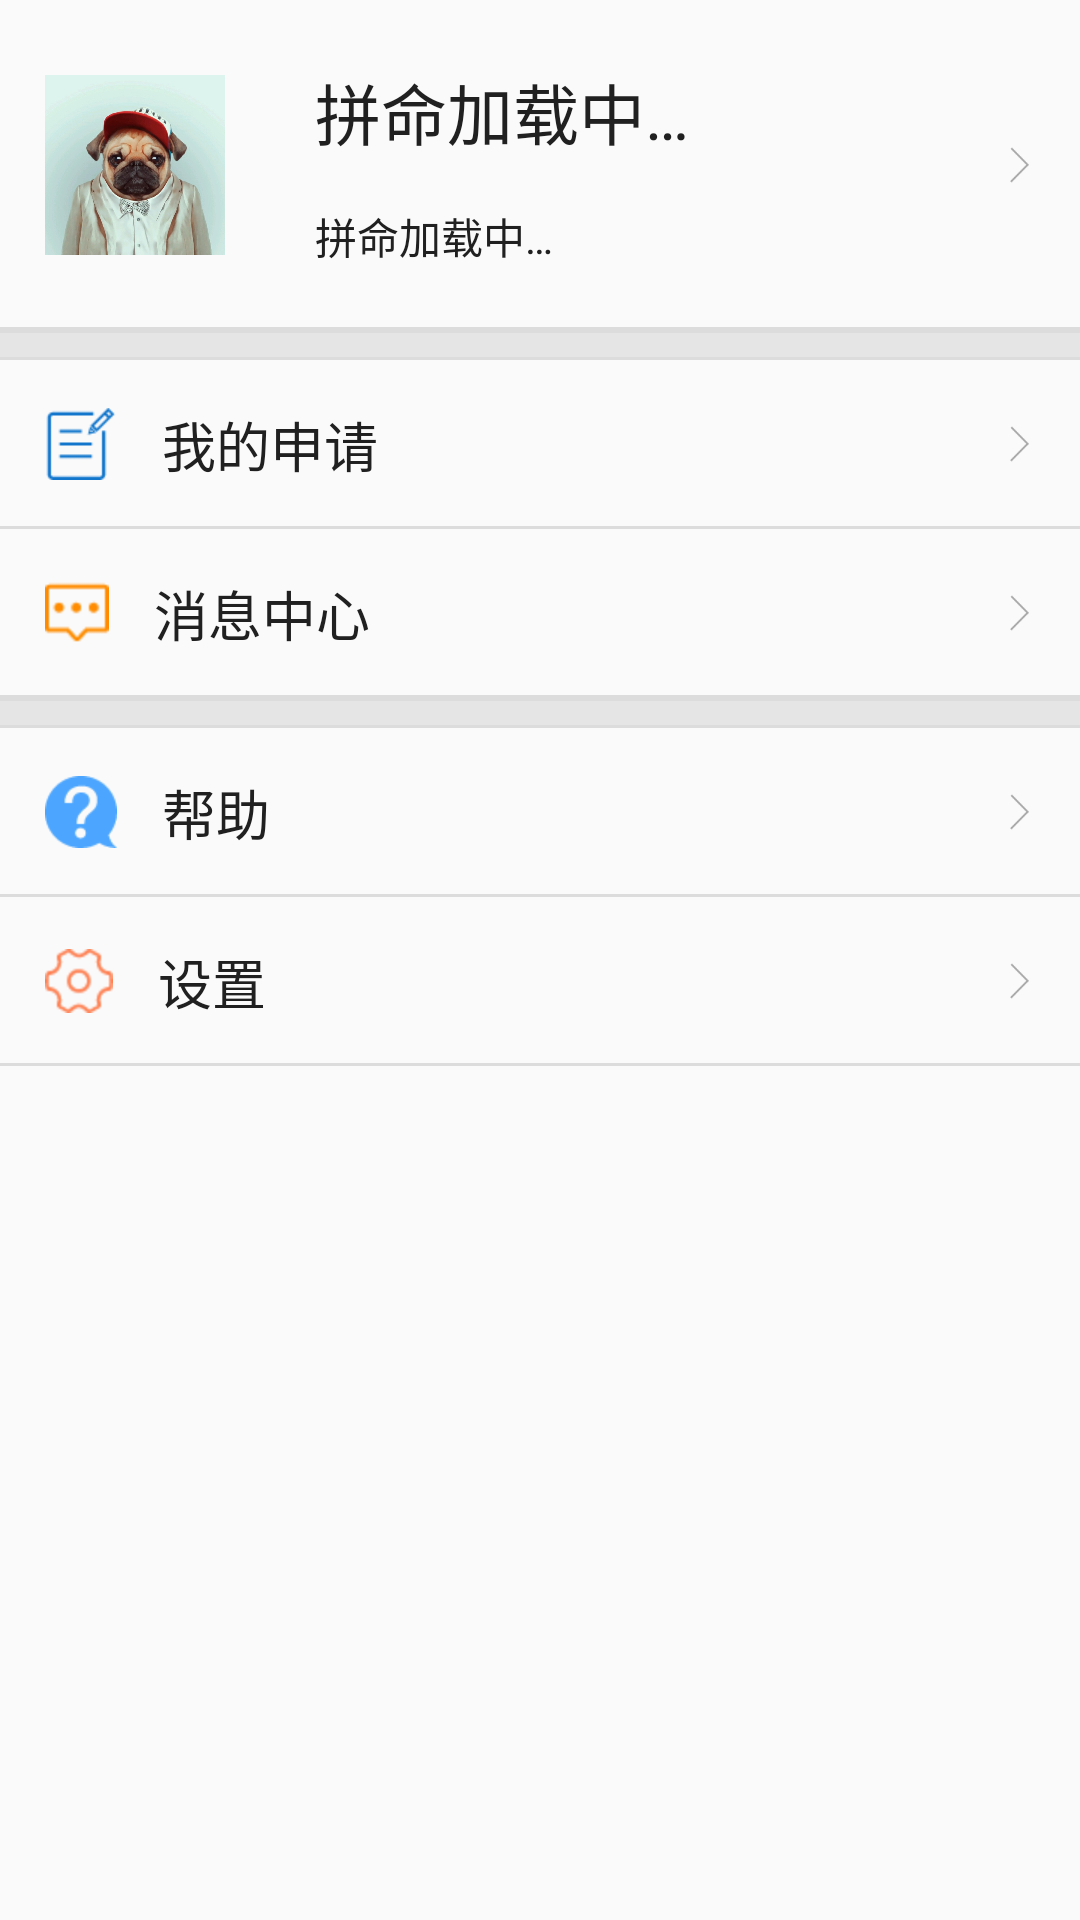

Icon click points for this 1080px x 1920px phone screenshot, format (x=x, y=y):
arrow: (x=1019, y=165)
photo: (x=135, y=165)
